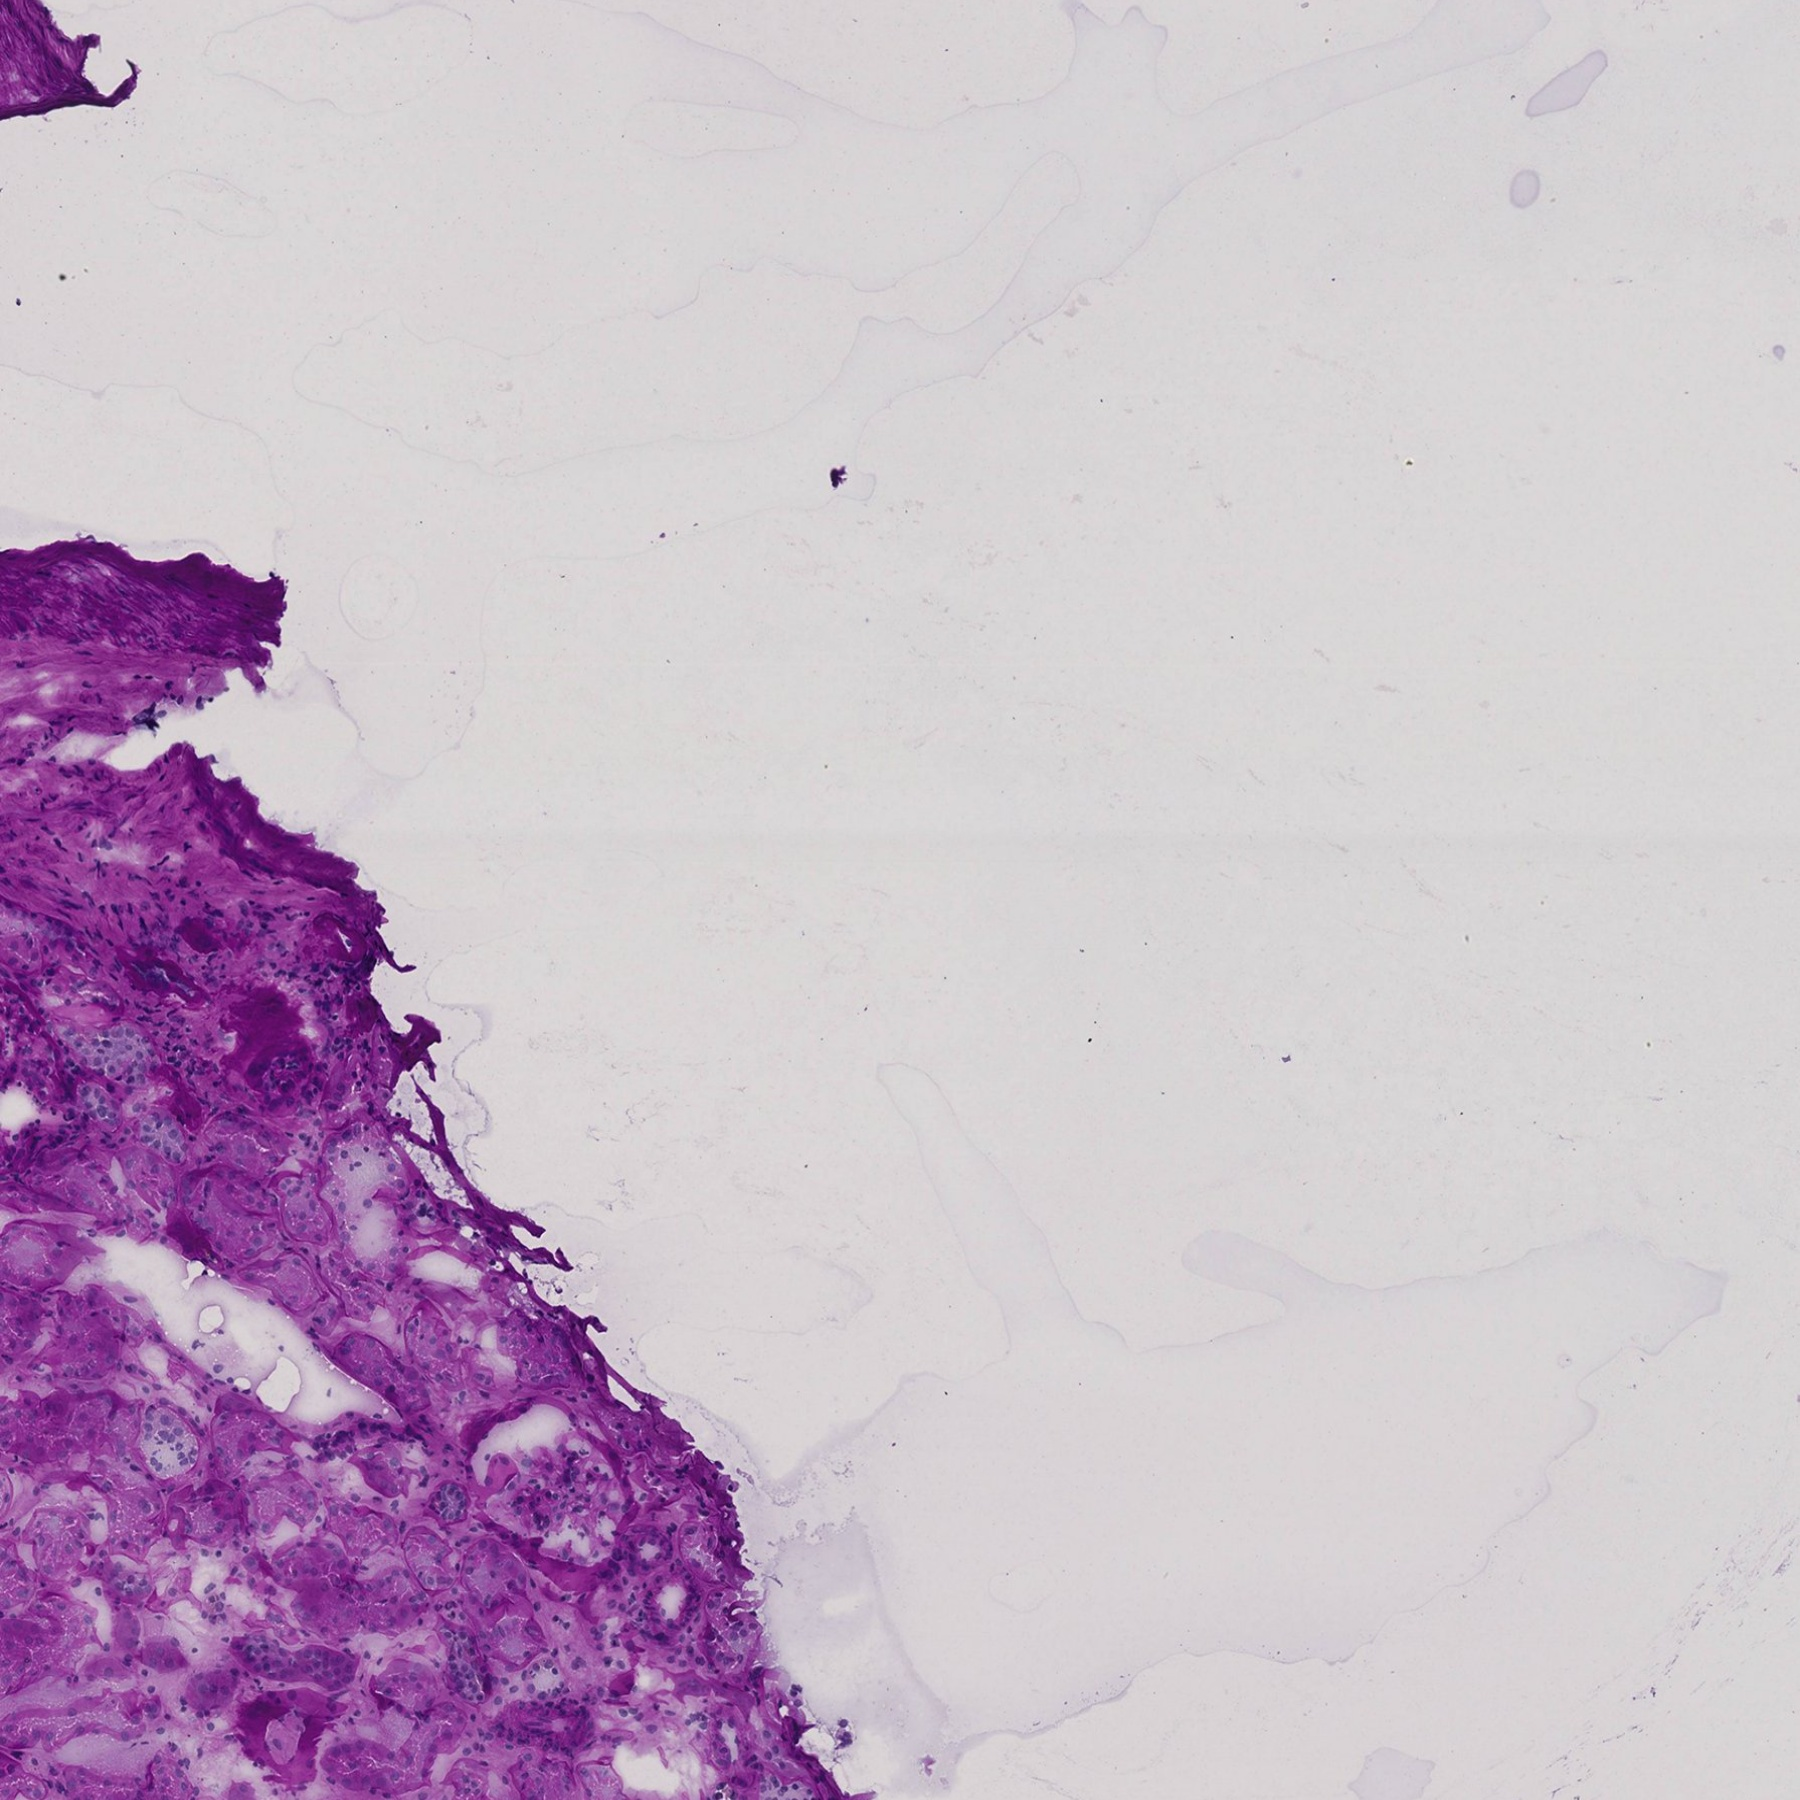Glomeruli: (466, 1399, 636, 1587)
